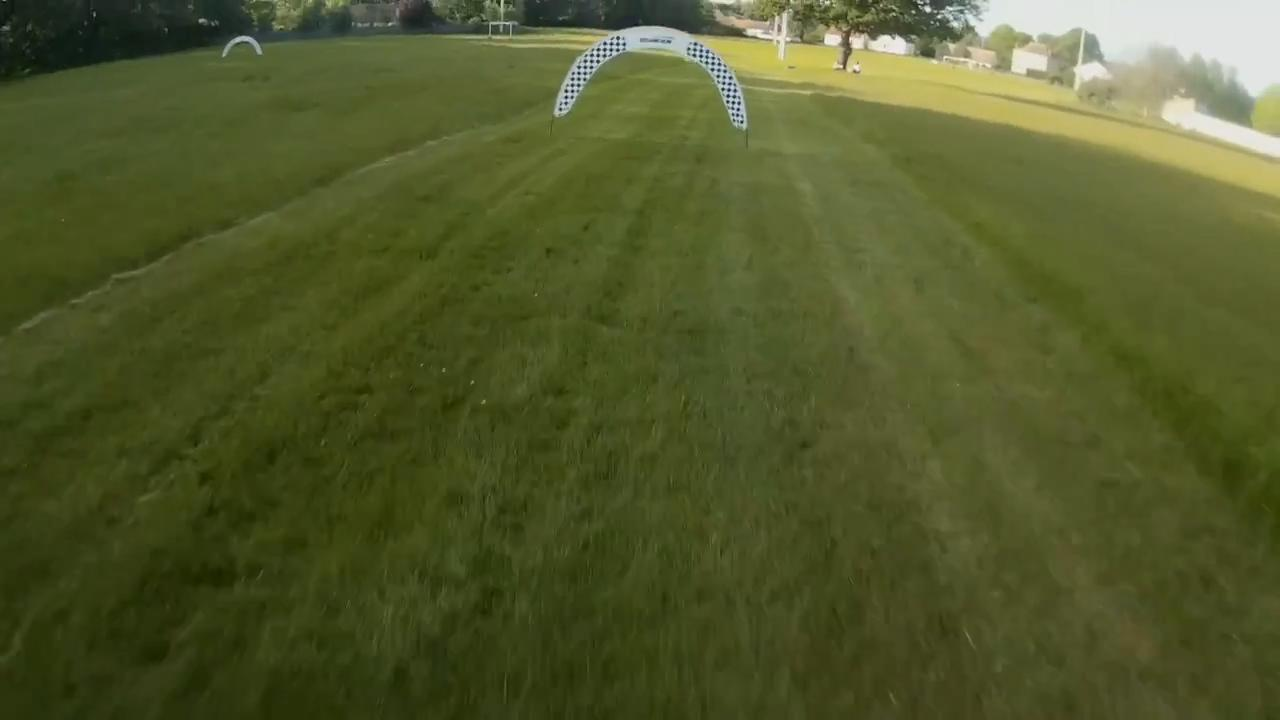gate: (547, 25, 747, 129), (218, 35, 262, 59)
